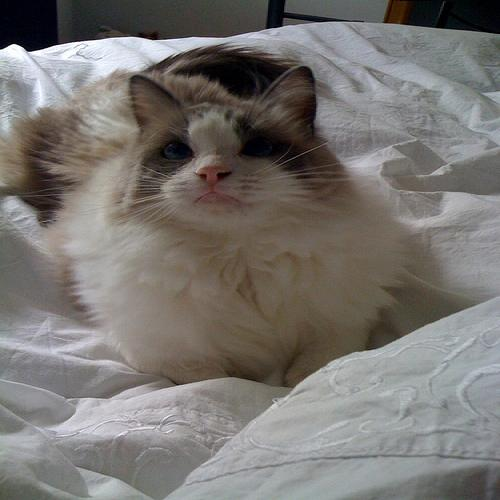ragdoll: (112, 57, 347, 241)
